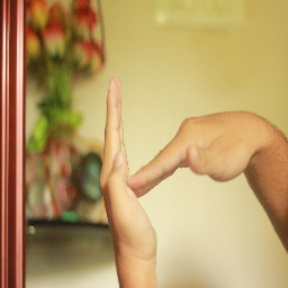Z: (90, 71, 261, 259)
